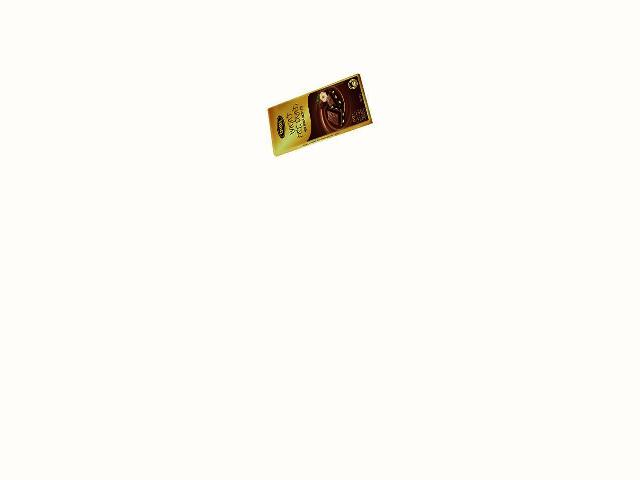chocolate: (267, 73, 382, 159)
